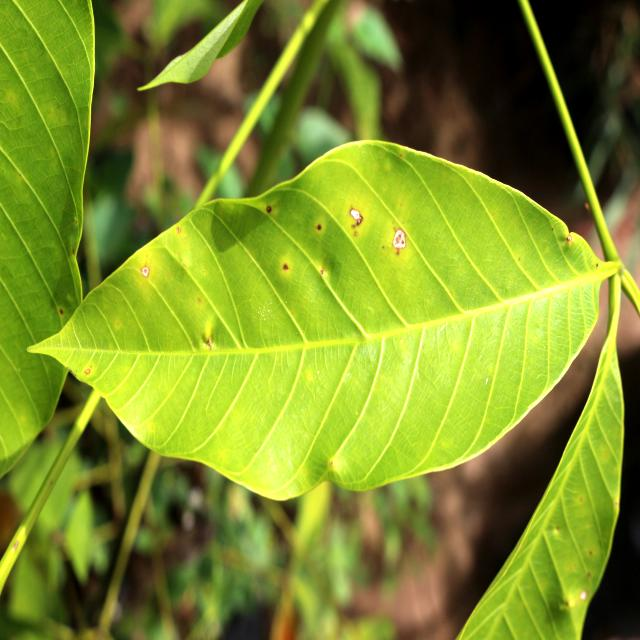Colletotrichum: (392, 229, 407, 249), (141, 266, 150, 278)
